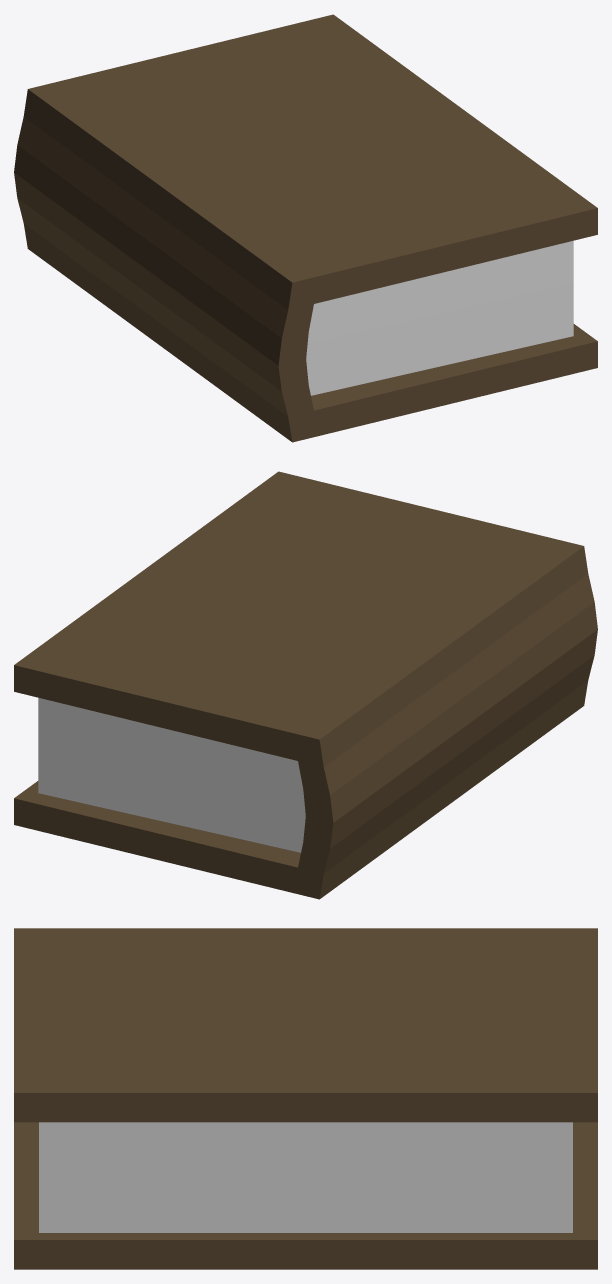
Rendered from bog2.glb.
3 renders of one model, top to bottom at view 1: azimuth 30°, elevation 25°; view 2: azimuth 150°, elevation 25°; view 3: azimuth 270°, elevation 25°, orthographic. The views are drawn at different scales.
Visible parts, largest first — view 1: Cube.002; view 2: Cube.002; view 3: Cube.002.
Boxes of the visible parts, box(x1,y1,x2,y2) form: Cube.002: box(14, 14, 597, 442); Cube.002: box(14, 471, 597, 899); Cube.002: box(14, 928, 597, 1269).
Bounding box in the file's own units: 1.05 × 0.5 × 1.5.
